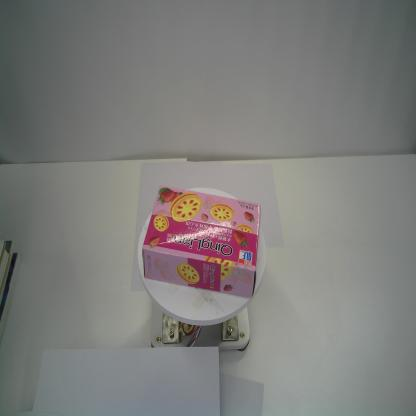Dessert: (140, 183, 262, 298)
